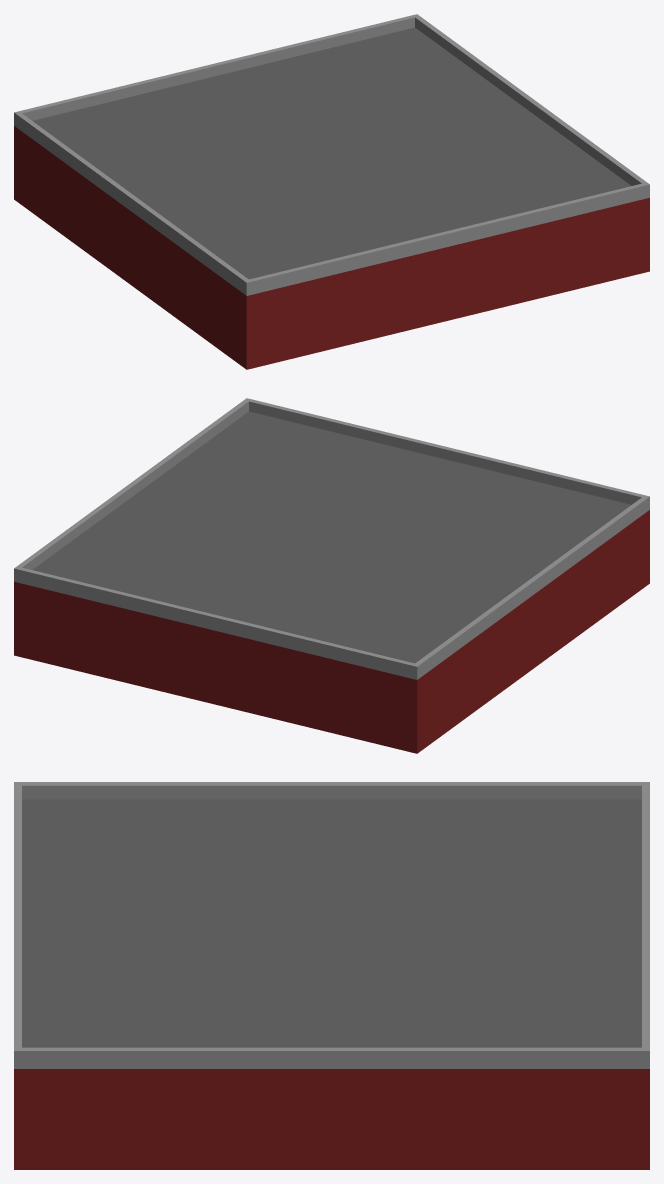
The model's file is Building_40_40_70.FBX.
3 views of the same model, one above another, from view 1: azimuth 30°, elevation 25°; view 2: azimuth 150°, elevation 25°; view 3: azimuth 270°, elevation 25° (orthographic). The views are drawn at different scales.
Visible parts, largest first — view 1: BakedBuilding_2014741032832852; view 2: BakedBuilding_2014741032832852; view 3: BakedBuilding_2014741032832852.
Part boxes in pixels (x1,y1,x2,y2): BakedBuilding_2014741032832852: [14, 14, 649, 369]; BakedBuilding_2014741032832852: [14, 398, 649, 753]; BakedBuilding_2014741032832852: [14, 782, 649, 1169].
Size of the model in its own units: 4000 by 825 by 4000.
